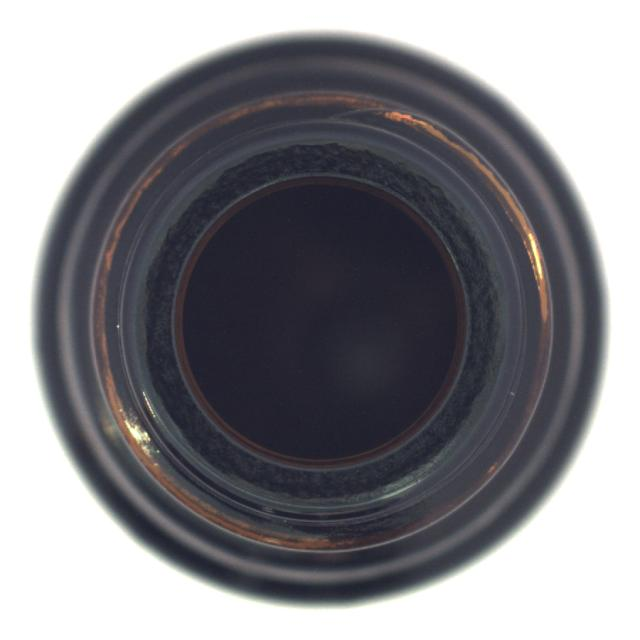bottle-good: (31, 31, 596, 604)
